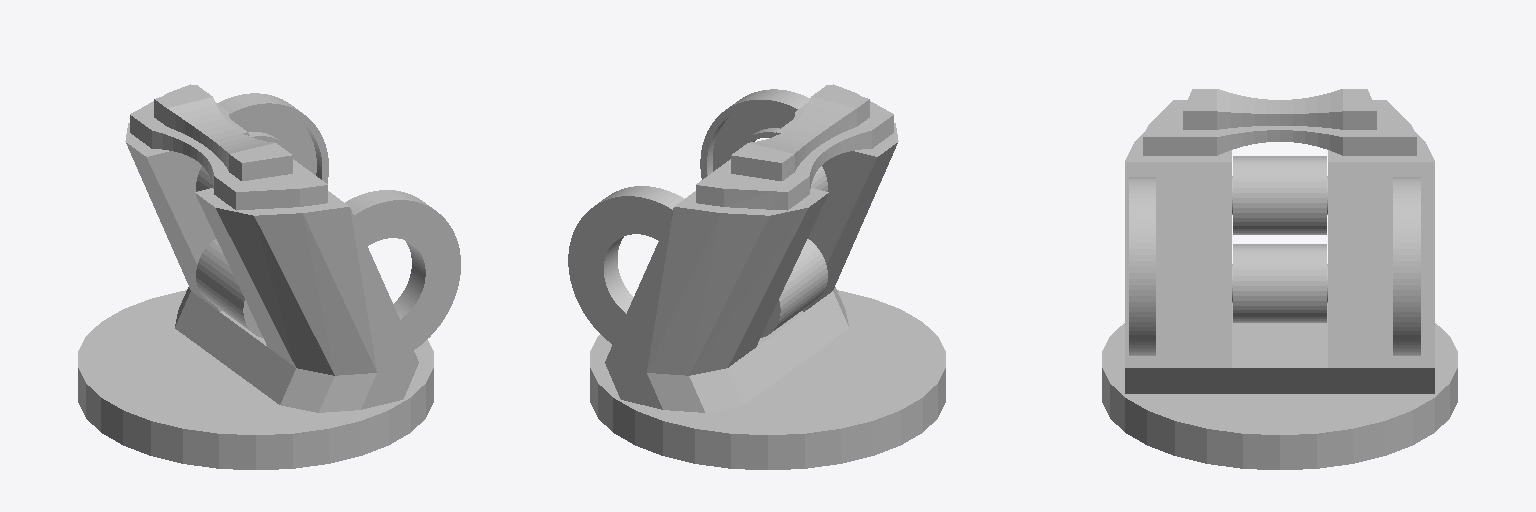
File: turret_base.obj
3 renders of one model, left to right at view 1: azimuth 30°, elevation 25°; view 2: azimuth 150°, elevation 25°; view 3: azimuth 270°, elevation 25°, orthographic.
Bounding box in the file's own units: 1.98 × 1.69 × 1.97.